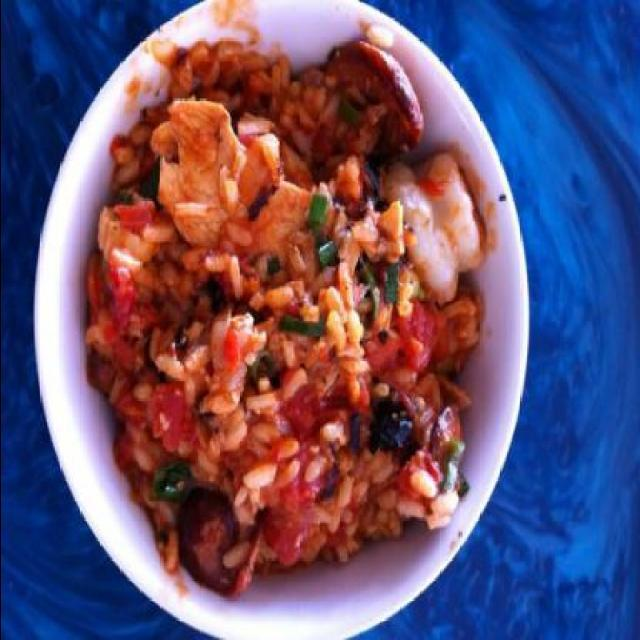Risotto: (88, 52, 474, 523)
